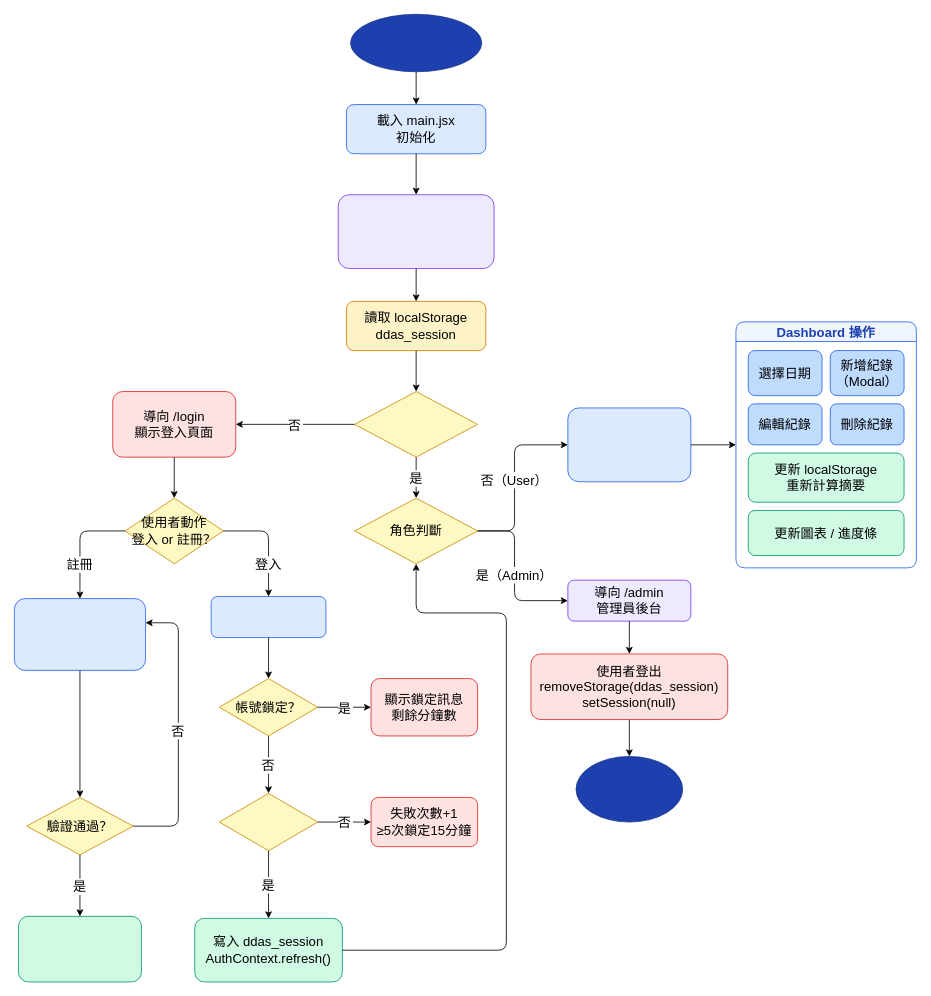
Some shapes in this 931 by 996 pixel diagram are drawn without their labels. The shapes that lost their labels are listed below. From the top down, each one's centre as x and y in pixels, then its label:
the point at 416,43: START
the point at 415,231: 掛載 Provider 層 Router AuthProvider ToastProvider
the point at 416,424: Session 是否存在？
the point at 629,444: 導向 /dashboard 一般用戶首頁
the point at 80,634: 填寫 Email/密碼/暱稱 validateEmail() validatePassword()
the point at 268,617: 輸入 Email / 密碼
the point at 629,789: END
the point at 268,822: 密碼正確？
the point at 79,949: bcrypt.hash() 寫入 ddas_users 顯示成功 Toast
